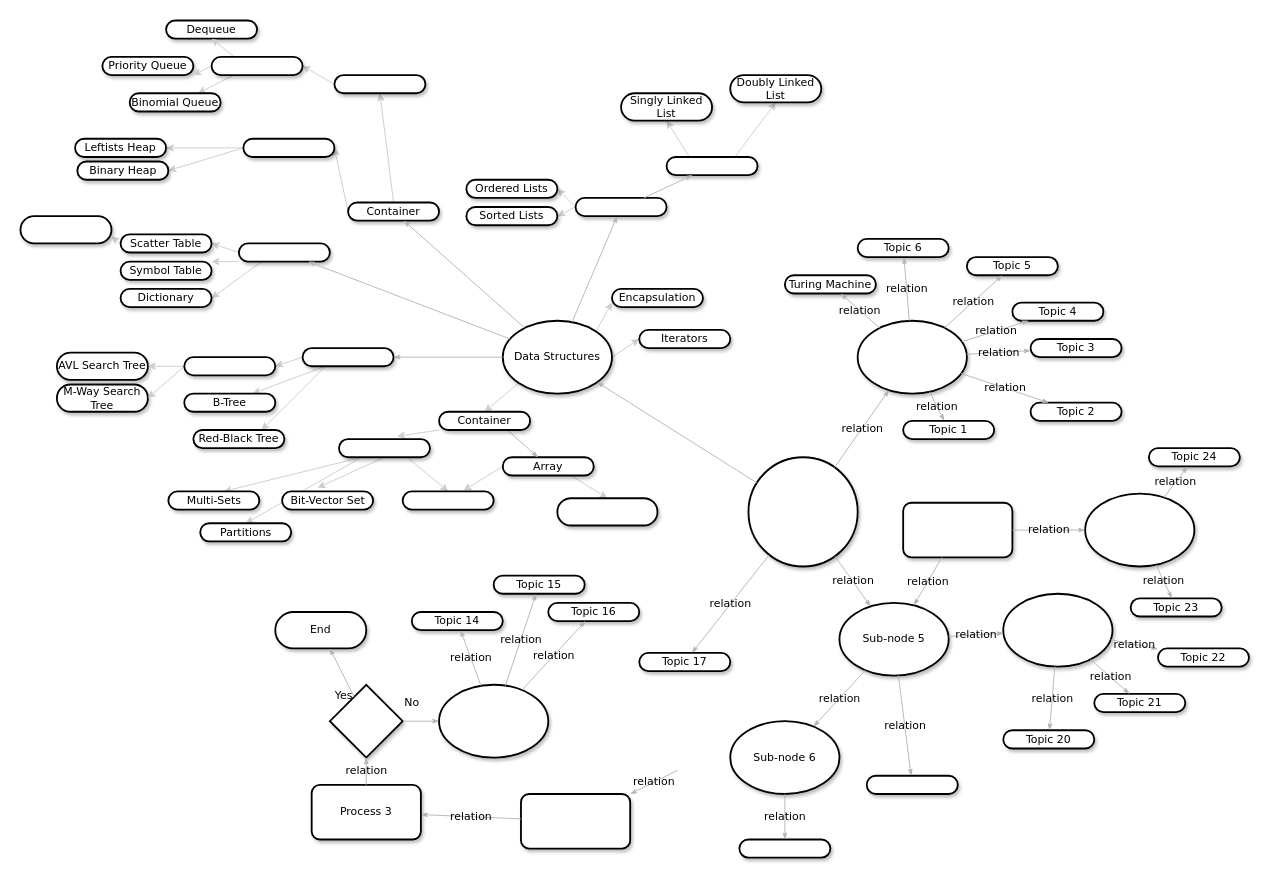
The diagram is 1270 pixels wide and 880 high, and some of its shapes have lost their labels. Each missing label, with the centre of its shape:
Array Set: point (449, 501)
Computation: point (913, 358)
Computer Science: point (803, 512)
Condition: point (367, 722)
Hash Table: point (285, 253)
Heap: point (289, 149)
Linked Lists: point (712, 167)
Lists: point (621, 208)
Multidimensional Array: point (607, 512)
Open Addressing: point (66, 230)
Process 1: point (958, 531)
Process 2: point (576, 822)
Queue: point (257, 67)
Search Tree: point (230, 367)
Sets: point (385, 449)
Stack: point (380, 85)
Sub-node 3: point (1140, 531)
Sub-node 4: point (1058, 631)
Sub-node 7: point (494, 722)
Topic 18: point (785, 849)
Topic 19: point (913, 786)
Trees: point (348, 358)
